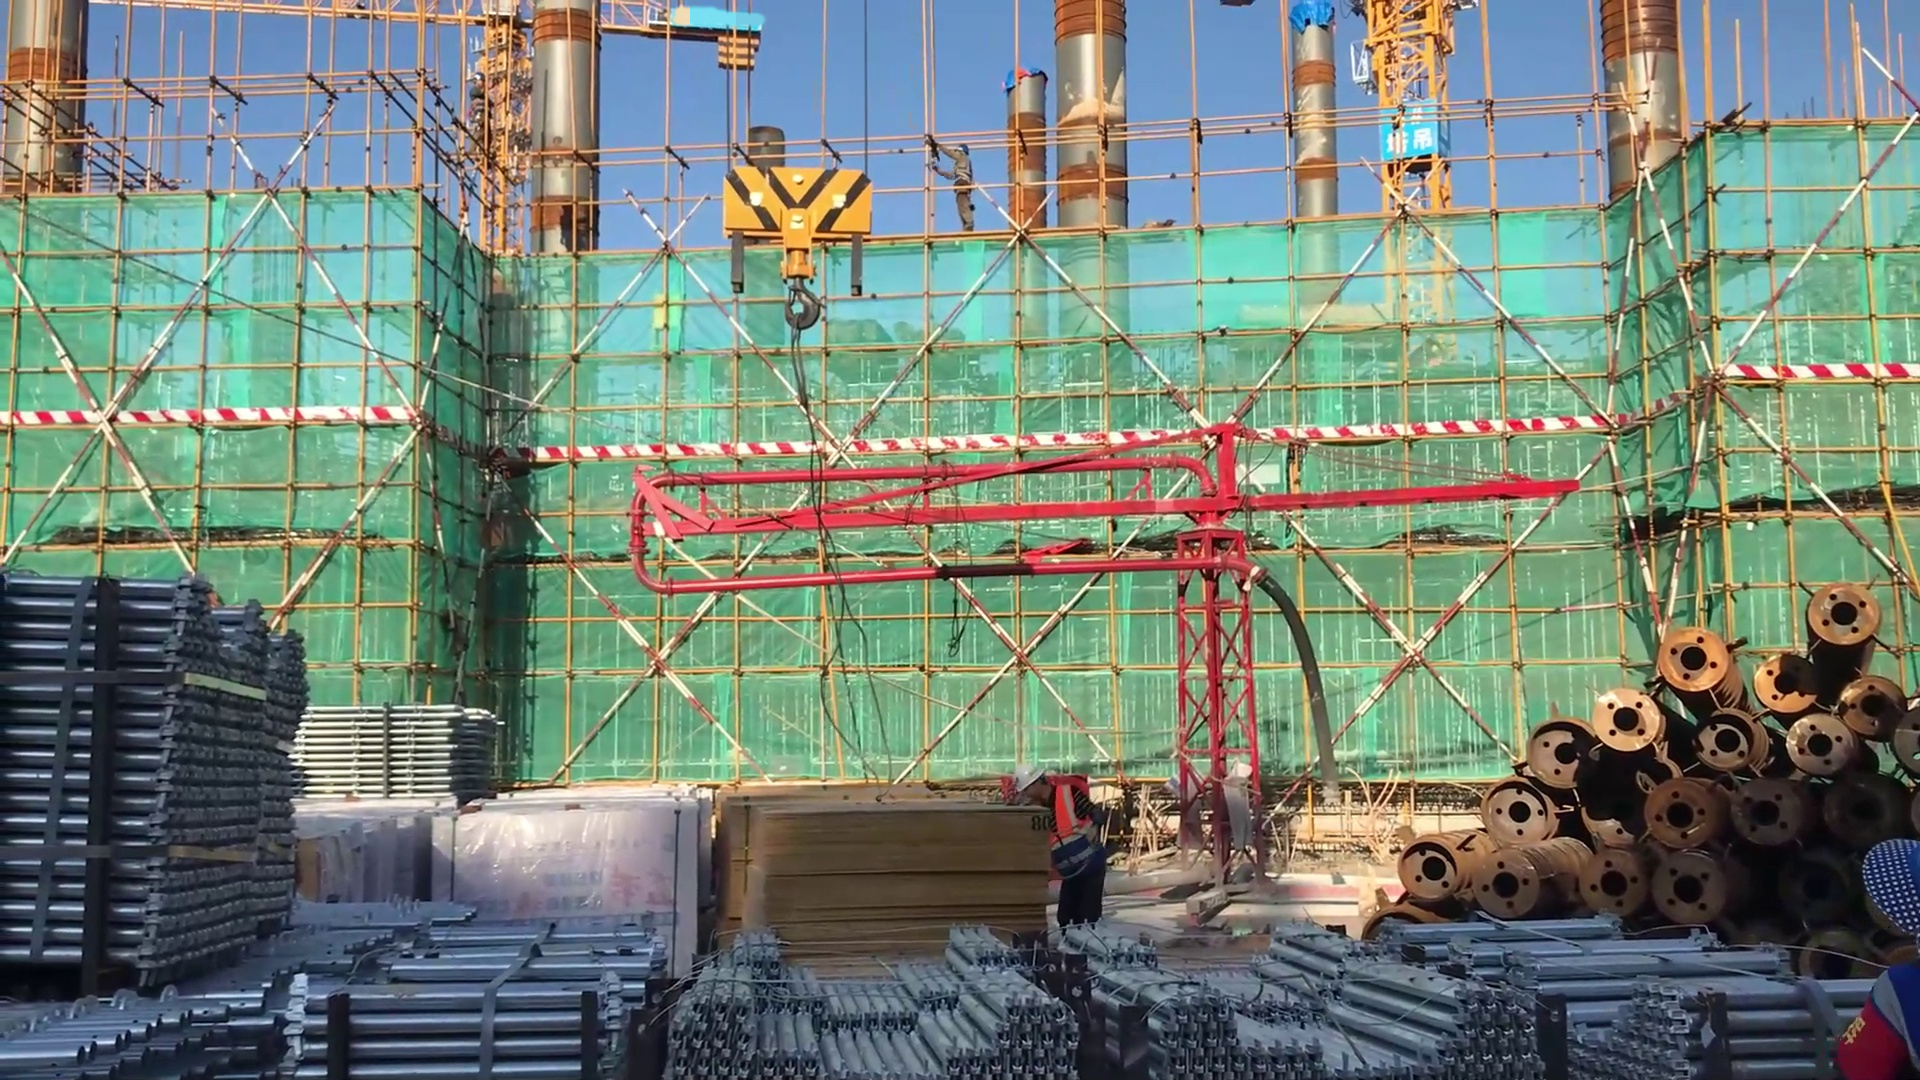board: (718, 791, 1051, 951)
helmet: (1008, 758, 1045, 793), (951, 143, 973, 157)
hook: (720, 152, 880, 341)
person: (1010, 757, 1128, 941), (921, 127, 982, 246)
scaffold: (1, 574, 333, 964), (1397, 914, 1877, 1080), (1, 910, 458, 1080), (1075, 916, 1551, 1078), (666, 927, 1092, 1080), (294, 916, 677, 1078), (293, 699, 512, 799)
slogan: (1381, 99, 1443, 166)
vest: (1040, 773, 1101, 886), (953, 156, 976, 192)
